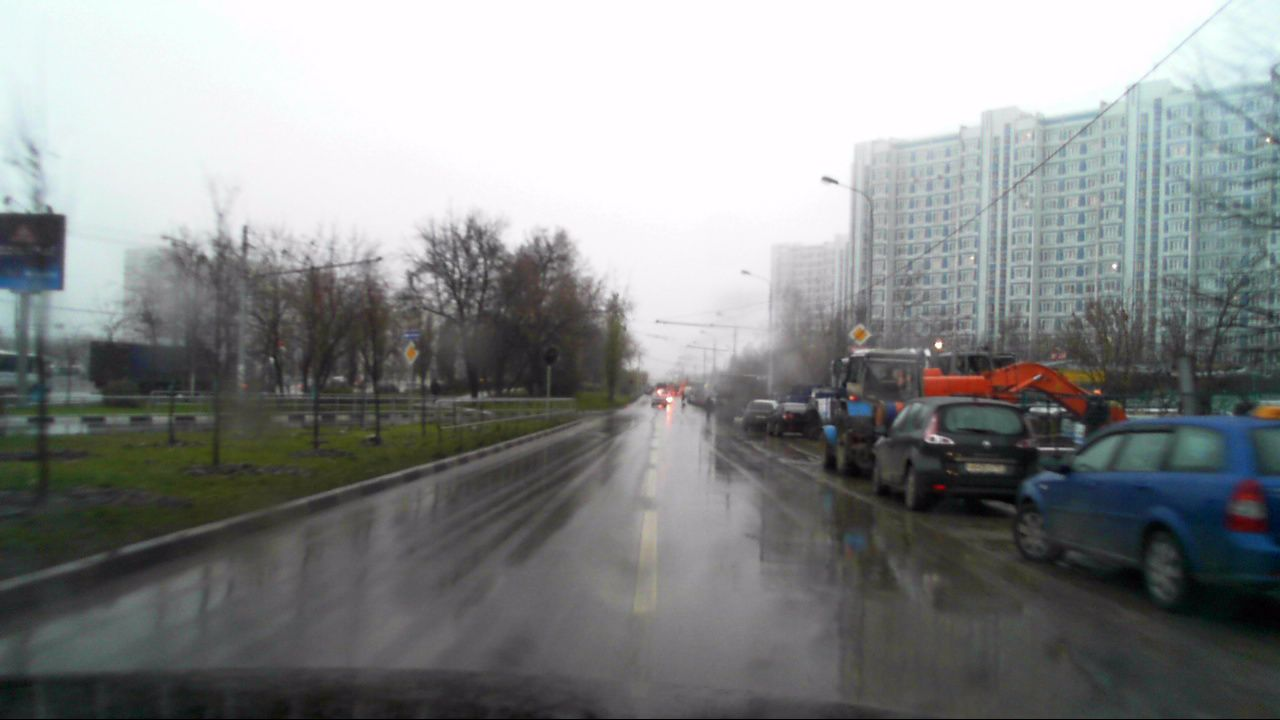main road: (848, 322, 872, 347)
